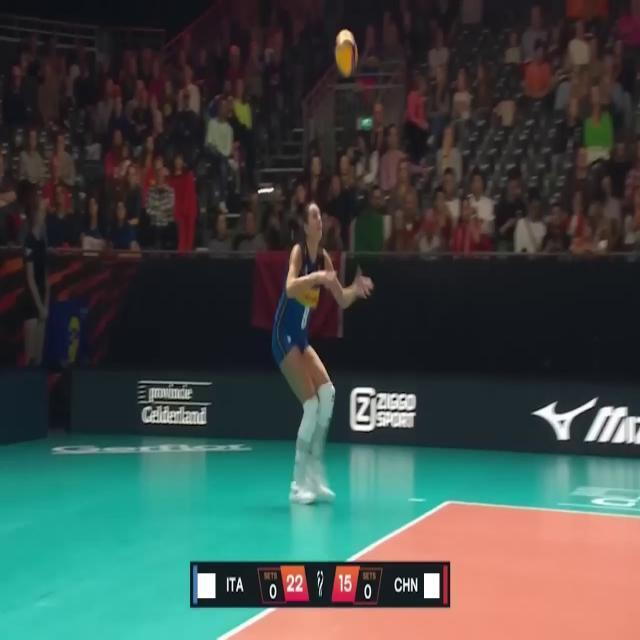volleyball: (334, 29, 358, 76)
